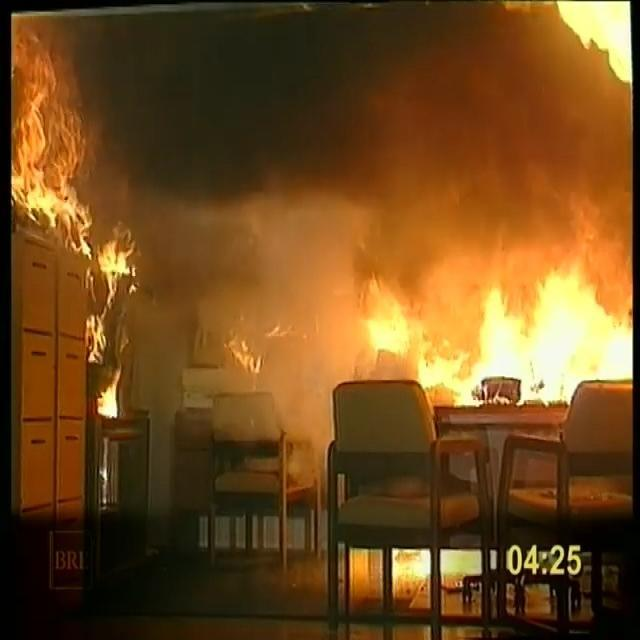Fire: (6, 16, 640, 446)
